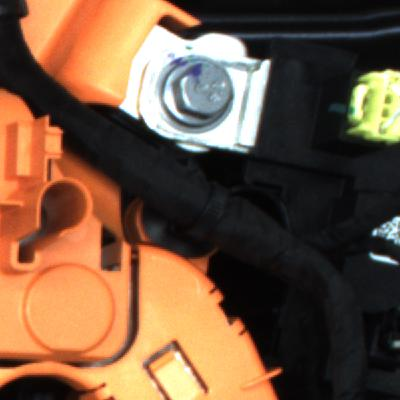nut_b: (147, 52, 239, 123)
